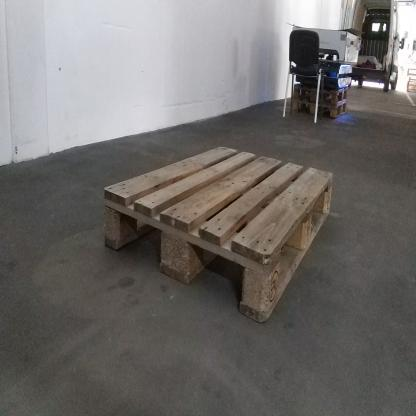BoxFace: (99, 139, 338, 332)
